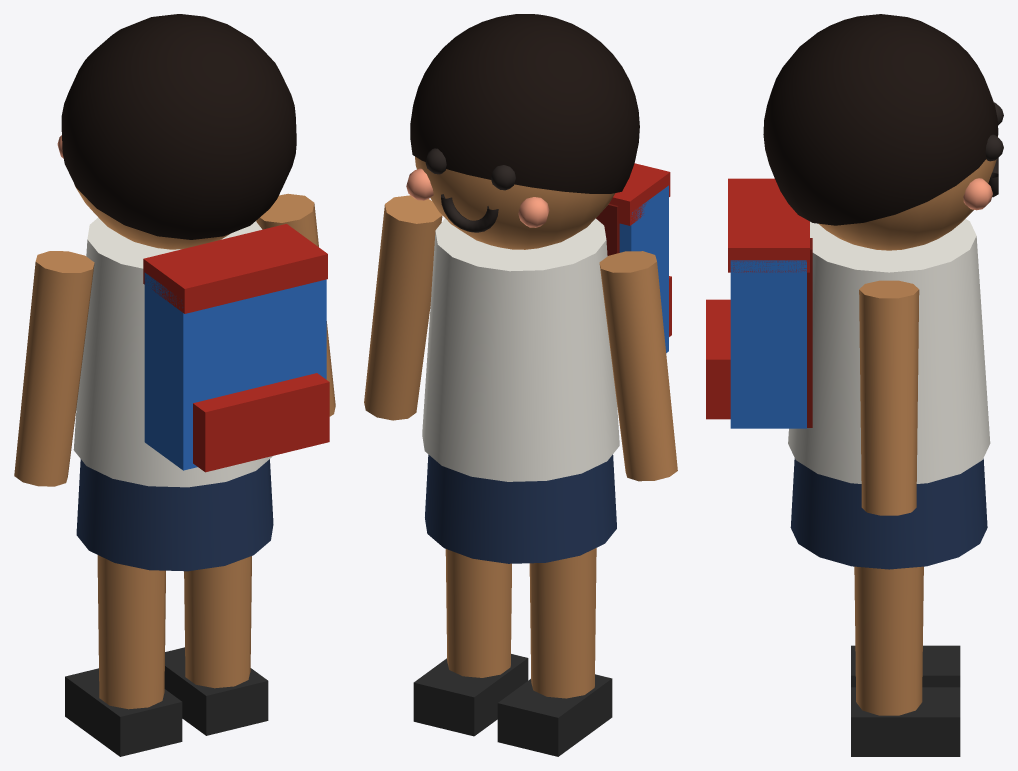
Rendered from visitor_1.fbx.
The picture shows the model from 3 angles, left to right: view 1: azimuth 30°, elevation 25°; view 2: azimuth 150°, elevation 25°; view 3: azimuth 270°, elevation 25°; orthographic projection. The views are drawn at different scales.
Visible parts, largest first — view 1: M__visitor_1-body, M__visitor_1-armL, M__visitor_1-shinL, M__visitor_1-shinR, M__visitor_1-legL, M__visitor_1-armR, M__visitor_1-legR; view 2: M__visitor_1-body, M__visitor_1-armL, M__visitor_1-armR, M__visitor_1-shinL, M__visitor_1-shinR, M__visitor_1-legL, M__visitor_1-legR; view 3: M__visitor_1-body, M__visitor_1-armR, M__visitor_1-shinR, M__visitor_1-legR, M__visitor_1-shinL.
Boxes of the visible parts, box(x1,y1,x2,y2) form: M__visitor_1-body: box(57, 14, 329, 571); M__visitor_1-armL: box(14, 251, 94, 486); M__visitor_1-shinL: box(65, 603, 182, 756); M__visitor_1-shinR: box(164, 582, 268, 735); M__visitor_1-legL: box(97, 555, 165, 619); M__visitor_1-armR: box(256, 193, 335, 416); M__visitor_1-legR: box(184, 556, 251, 598); M__visitor_1-body: box(406, 14, 671, 563); M__visitor_1-armL: box(599, 251, 677, 481); M__visitor_1-armR: box(364, 195, 442, 420); M__visitor_1-shinL: box(497, 594, 612, 756); M__visitor_1-shinR: box(413, 574, 528, 736); M__visitor_1-legL: box(529, 548, 596, 610); M__visitor_1-legR: box(445, 549, 511, 590); M__visitor_1-body: box(706, 14, 1003, 569); M__visitor_1-armR: box(859, 280, 919, 515); M__visitor_1-shinR: box(851, 613, 960, 756); M__visitor_1-legR: box(854, 566, 923, 626); M__visitor_1-shinL: box(851, 645, 960, 687).
Size of the model in its own units: 0.6547 by 1.4 by 0.545.
